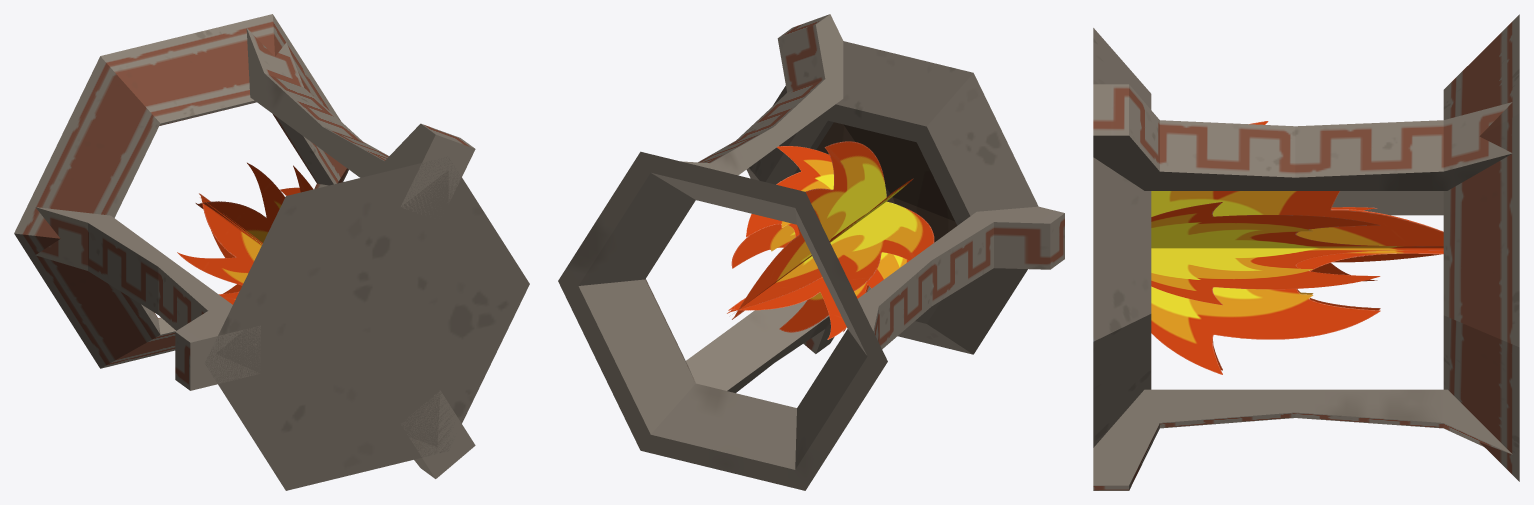
File: SM_Prop_Dwarf_Torch_06.fbx
3 renders of one model, left to right at view 1: azimuth 30°, elevation 25°; view 2: azimuth 150°, elevation 25°; view 3: azimuth 270°, elevation 25°, orthographic. The views are drawn at different scales.
Parts seen in each view (by area): view 1: SM_Prop_Dwarf_Torch_06; view 2: SM_Prop_Dwarf_Torch_06; view 3: SM_Prop_Dwarf_Torch_06.
Boxes of the visible parts, box(x1,y1,x2,y2) form: SM_Prop_Dwarf_Torch_06: box(14, 14, 529, 490); SM_Prop_Dwarf_Torch_06: box(558, 14, 1064, 490); SM_Prop_Dwarf_Torch_06: box(1093, 14, 1519, 490).
Bounding box in the file's own units: 61.37 × 57.86 × 54.98.
